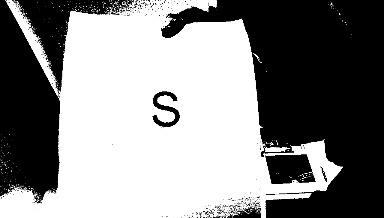S: (146, 86, 185, 130)
